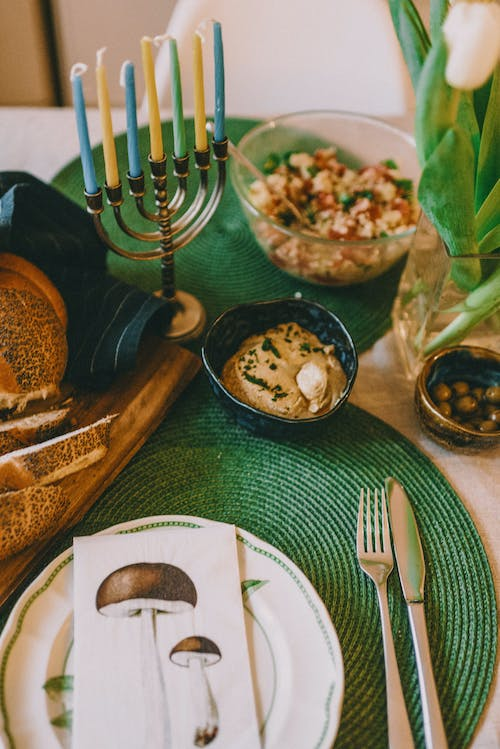knife: (382, 471, 451, 749)
